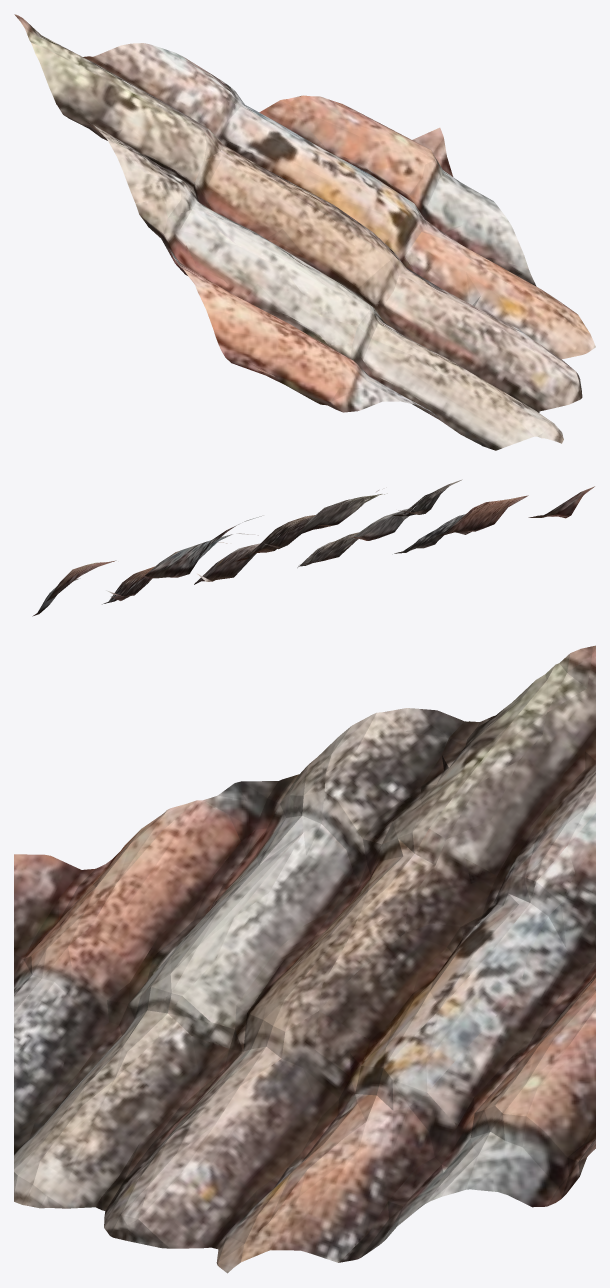
The picture shows the model from 3 angles, top to bottom: view 1: azimuth 30°, elevation 25°; view 2: azimuth 150°, elevation 25°; view 3: azimuth 270°, elevation 25°; orthographic projection. The views are drawn at different scales.
Size of the model in its own units: 0.8373 by 0.6065 by 0.8374.
3 materials, 3 textured.
